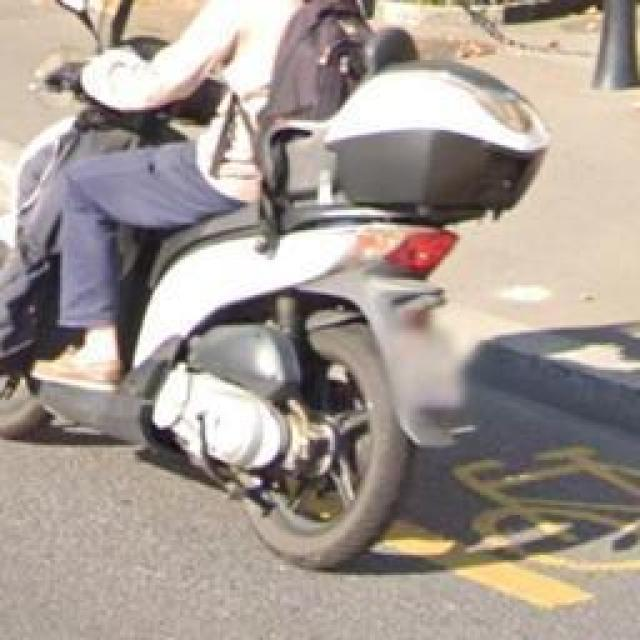motorbike: (0, 0, 558, 575)
